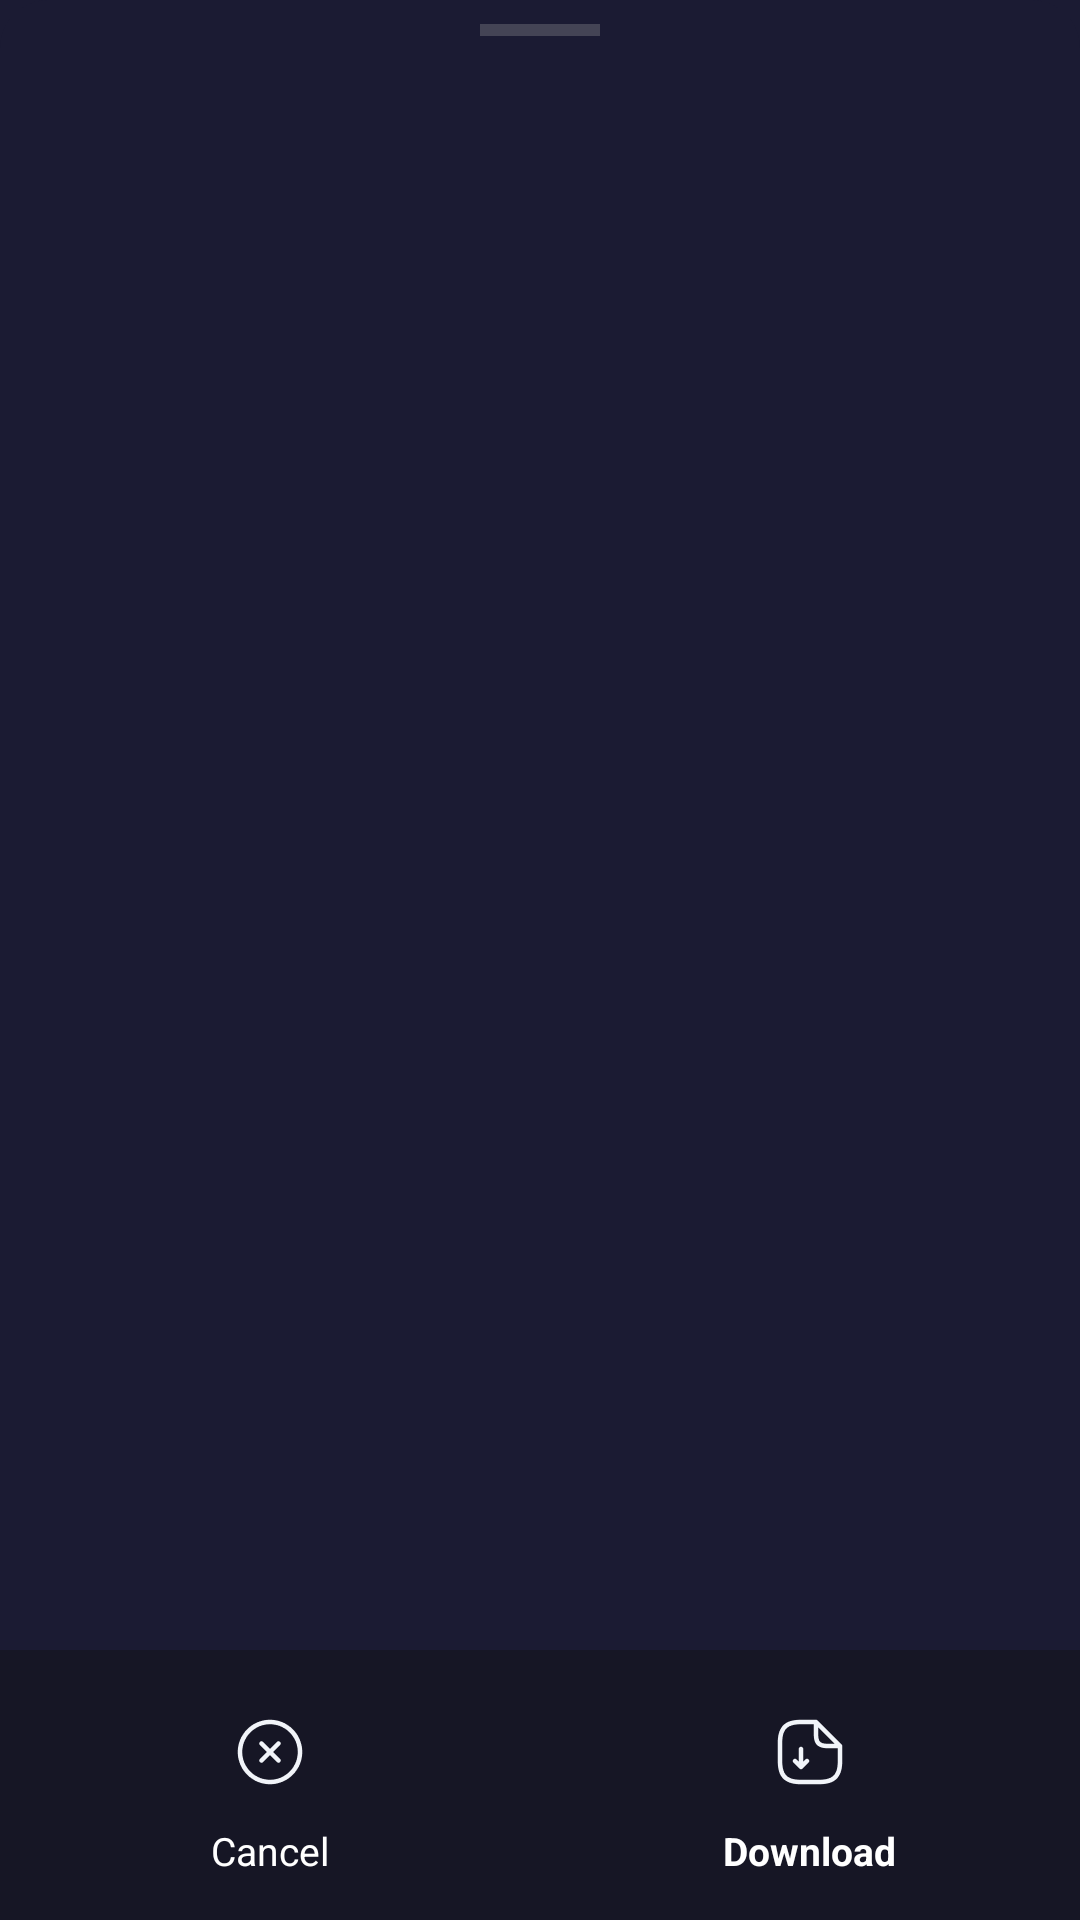

Icons on this 1080x1920 Android screen, each with the point to tap as point (x, y):
close: point (270, 1752)
